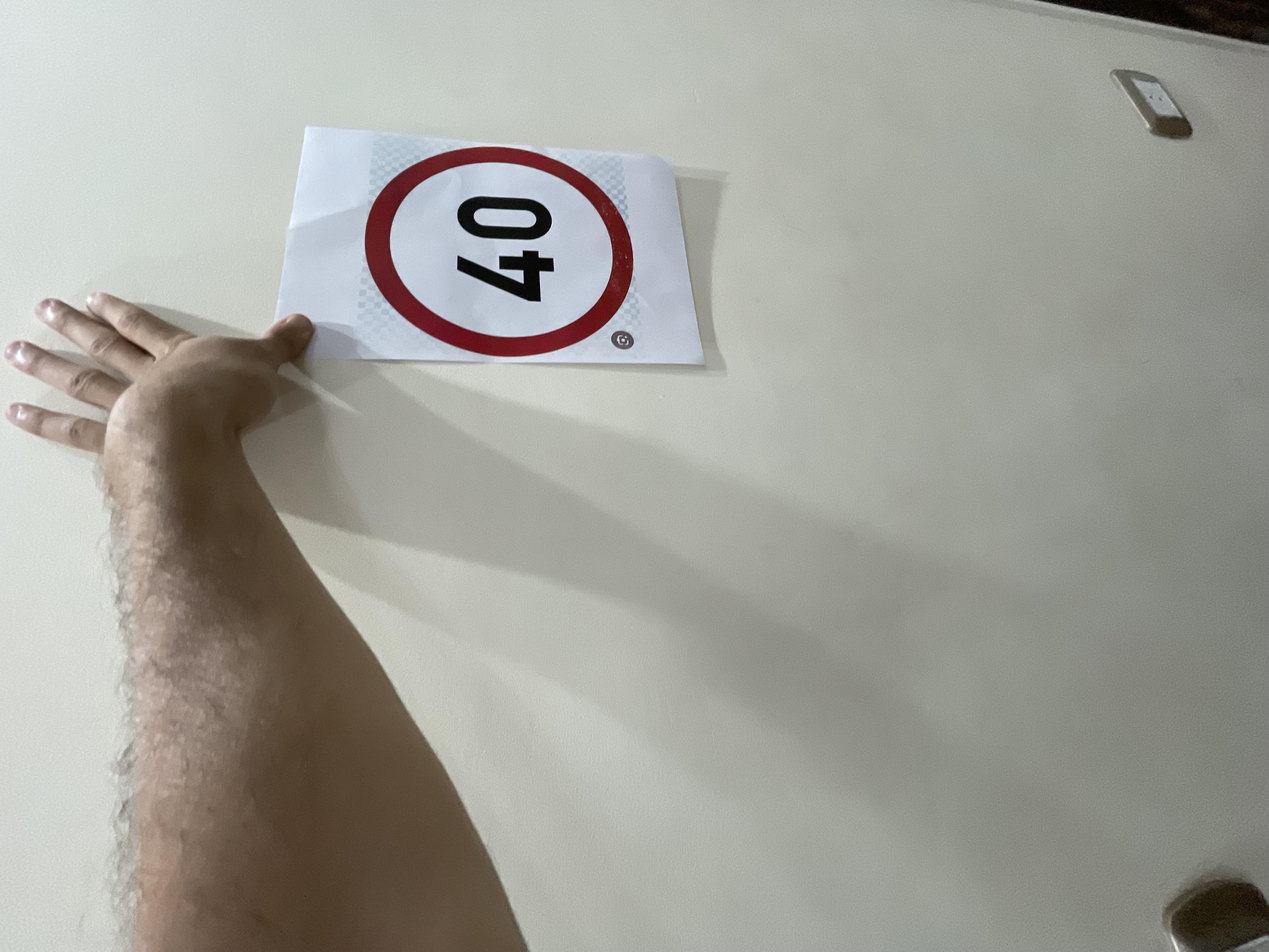40-Speed: (798, 270, 1073, 477)
